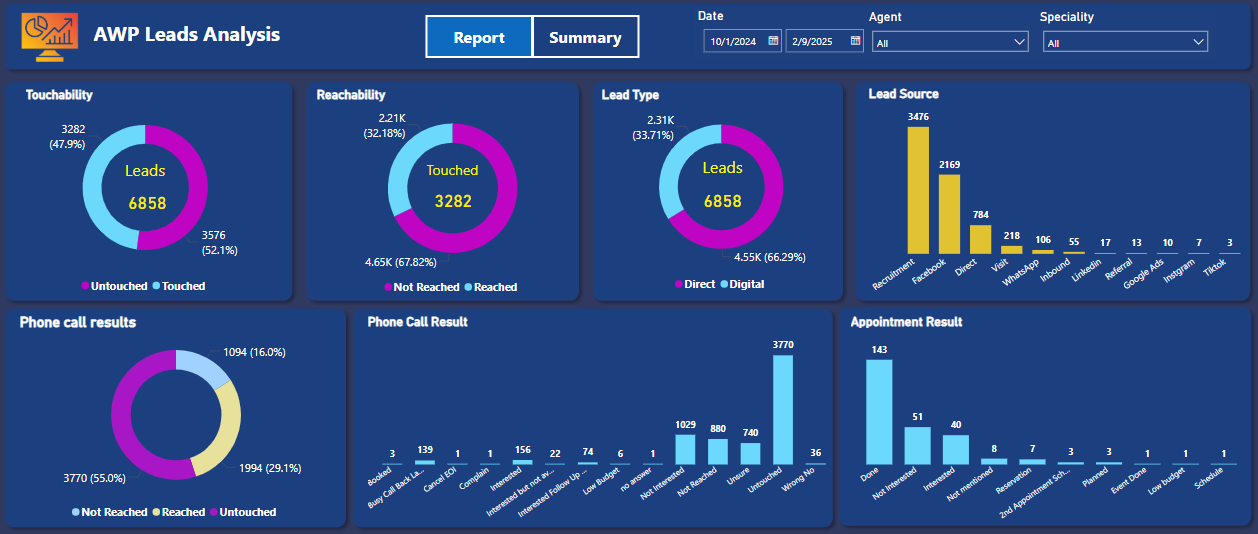

The page's visual inventory and layout, read from the dashboard file:
{"tool":"powerbi","page":{"name":"Summary","canvas":[1680,720],"ordinal":0},"visuals":[{"type":"shape","box":[0,0,1679.3,105.3],"z":0},{"type":"shape","box":[1134.8,103.3,544.5,310],"z":1000},{"type":"columnChart","title":"Lead Source","fields":{"Category":["new awp leads.Lead Source"],"Y":["CountNonNull(new awp leads.Lead Source)"]},"box":[1156.7,117.3,522.7,296.1],"z":2000},{"type":"shape","box":[1112,404,568,310],"z":3000},{"type":"shape","box":[0,405.4,473,310],"z":4000},{"type":"shape","box":[464,406,658,310],"z":5000},{"type":"columnChart","title":"Phone Call Result","fields":{"Category":["new awp leads.Last Reached Call Result"],"Y":["CountNonNull(new awp leads.Last Reached Call Result)"]},"box":[488,422,638,284],"z":6000},{"type":"columnChart","title":"Appointment Result","fields":{"Category":["new awp leads.Appointment Result"],"Y":["CountNonNull(new awp leads.Appointment Result)"]},"box":[1132,422,546,284],"z":7000},{"type":"shape","box":[783,103.3,351.8,310],"z":8000},{"type":"shape","box":[401.5,103.3,381.6,310],"z":9000},{"type":"shape","box":[0,103.3,401.5,310],"z":10000},{"type":"donutChart","title":"Lead Type","fields":{"Y":["CountNonNull(new awp leads.Lead Classification)"],"Category":["new awp leads.Lead Classification"]},"box":[800.9,119.2,327.9,282.2],"z":11000},{"type":"donutChart","title":"Reachability","fields":{"Category":["new awp leads.reachability"],"Y":["CountNonNull(new awp leads.reachability)"]},"box":[419.3,119.2,371.6,286.2],"z":12000},{"type":"donutChart","title":"Touchability","fields":{"Category":["new awp leads.Touchability"],"Y":["CountNonNull(new awp leads.Touchability)"]},"box":[31.8,119.2,327.9,284.2],"z":13000},{"type":"card","title":"Leads","fields":{"Values":["new awp leads.total_leads"]},"box":[123.2,220.6,149.1,107.3],"z":14000},{"type":"textbox","box":[165,210.7,131.2,65.6],"z":15000},{"type":"card","title":"Leads","fields":{"Values":["new awp leads.total_leads"]},"box":[532.6,218.6,149.1,107.3],"z":16000},{"type":"textbox","box":[566.4,212.7,133.2,65.6],"z":17000},{"type":"card","title":"Leads","fields":{"Values":["new awp leads.total_leads"]},"box":[890.4,218.6,151,107.3],"z":18000},{"type":"textbox","box":[934.1,206.7,133.2,65.6],"z":19000},{"type":"image","box":[20.5,3.2,97.9,99.5],"z":20000},{"type":"textbox","box":[121.2,23.8,373.6,67.6],"z":21000},{"type":"slicer","title":"Speciality","fields":{"Values":["new awp leads.Speciality"]},"box":[1383.4,16,239.1,68.8],"z":23000},{"type":"slicer","title":"Agent","fields":{"Values":["new awp leads.Owner"]},"box":[1156.8,16,228.2,68.8],"z":24000},{"type":"slicer","title":"Date","fields":{"Values":["new awp leads.Created On"]},"box":[928,14.5,232.1,67.9],"z":25000},{"type":"actionButton","box":[711.5,23.8,143.1,57.6],"z":26000},{"type":"actionButton","box":[570.4,23.8,143.1,57.6],"z":27000},{"type":"donutChart","title":"Phone call results","fields":{"Category":["new awp leads.Last Call Status"],"Y":["CountNonNull(new awp leads.Last Call Status)"]},"box":[24,422,426,284],"z":27001}]}

Visuals, with their boxes in screenshot pixels (x1, y1, x2, y2), scaled from the page's 1680x720 canvas onto the 1258x534 screenshot:
shape: [0,0,1257,78]
shape: [850,77,1257,307]
"Lead Source" columnChart: [866,87,1257,307]
shape: [833,300,1257,530]
shape: [0,301,354,531]
shape: [347,301,840,531]
"Phone Call Result" columnChart: [365,313,843,524]
"Appointment Result" columnChart: [848,313,1257,524]
shape: [586,77,850,307]
shape: [301,77,586,307]
shape: [0,77,301,307]
"Lead Type" donutChart: [600,88,845,298]
"Reachability" donutChart: [314,88,592,301]
"Touchability" donutChart: [24,88,269,299]
"Leads" card: [92,164,204,243]
textbox: [124,156,222,205]
"Leads" card: [399,162,510,242]
textbox: [424,158,524,206]
"Leads" card: [667,162,780,242]
textbox: [699,153,799,202]
image: [15,2,89,76]
textbox: [91,18,371,68]
"Speciality" slicer: [1036,12,1215,63]
"Agent" slicer: [866,12,1037,63]
"Date" slicer: [695,11,869,61]
actionButton: [533,18,640,60]
actionButton: [427,18,534,60]
"Phone call results" donutChart: [18,313,337,524]
